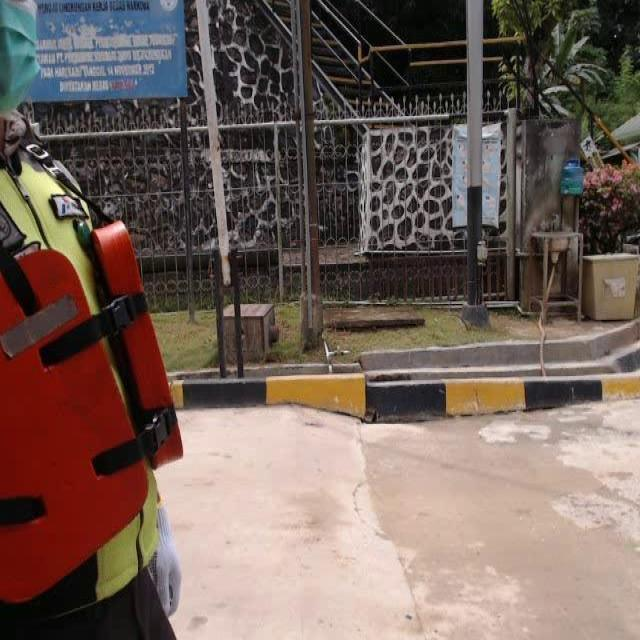Vest: (4, 218, 189, 618)
